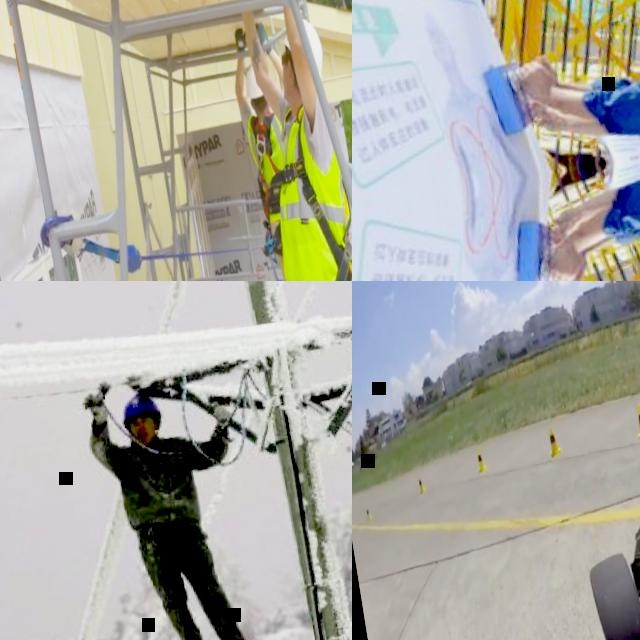Hardhat: (279, 17, 328, 89), (116, 391, 165, 429), (242, 65, 266, 100)
NO-Mask: (278, 58, 298, 102), (131, 429, 158, 450)
NO-Safety Vest: (117, 437, 204, 539)
Person: (82, 372, 277, 640), (234, 0, 352, 281), (224, 18, 334, 281), (505, 0, 640, 154), (512, 0, 640, 147), (522, 131, 640, 281), (545, 152, 640, 281)
Safety Cone: (543, 423, 562, 462), (472, 449, 488, 478), (631, 398, 640, 446), (415, 471, 429, 500), (363, 503, 374, 524)
Safety Vest: (258, 100, 352, 281), (244, 106, 297, 224)
vehicle: (552, 404, 640, 640)
